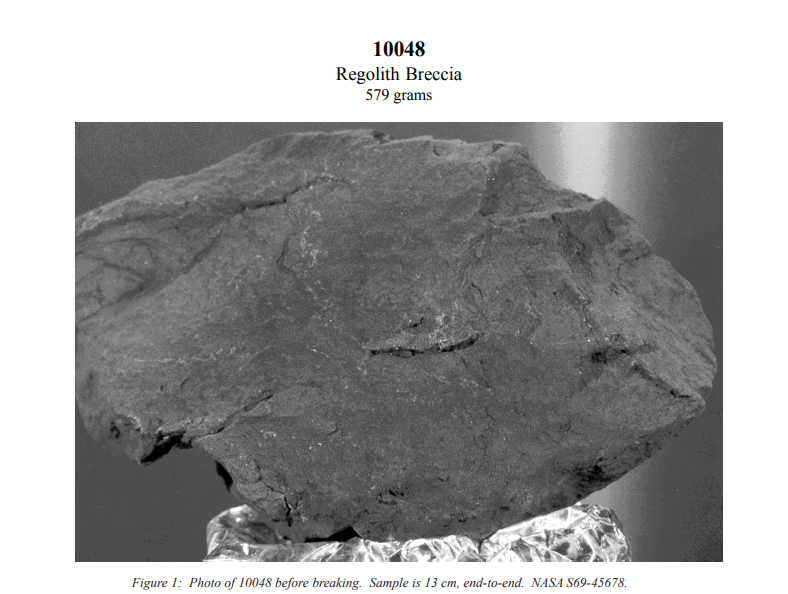Breccia: (81, 140, 679, 491), (143, 191, 664, 429)
